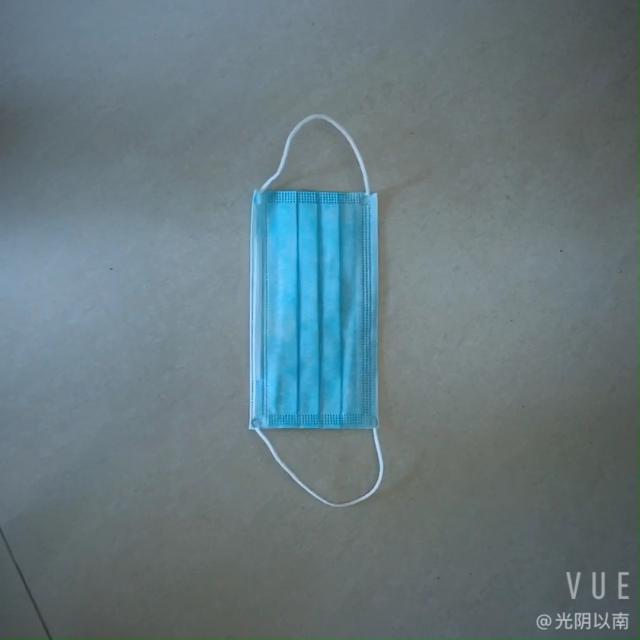non-organic waste: (230, 183, 392, 451)
